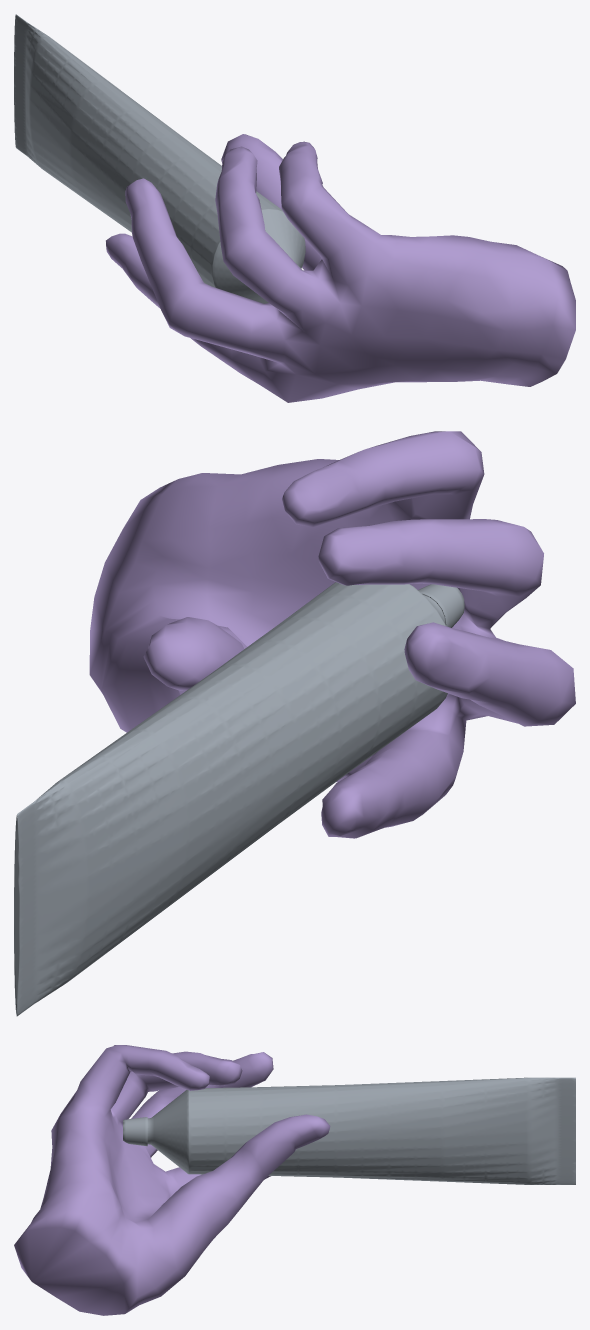
File: grasp_2.glb
3 renders of one model, top to bottom at view 1: azimuth 30°, elevation 25°; view 2: azimuth 150°, elevation 25°; view 3: azimuth 270°, elevation 25°, orthographic. The views are drawn at different scales.
Size of the model in its own units: 0.1417 by 0.0941 by 0.2505.
